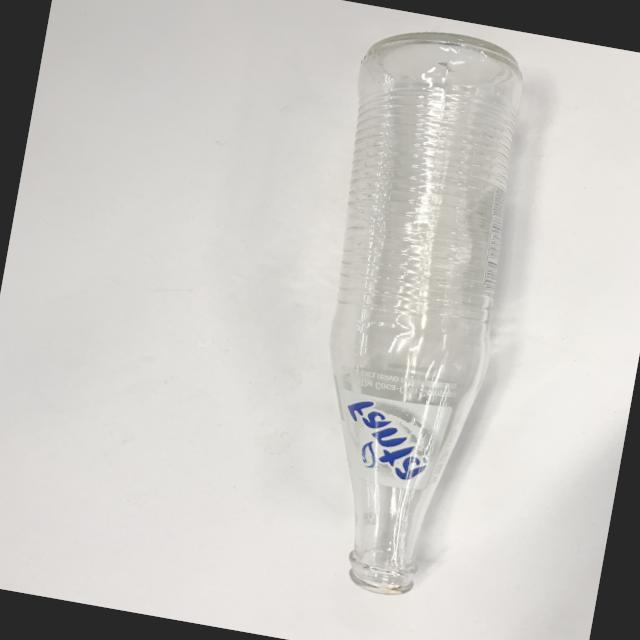Glass: (257, 9, 572, 616)
